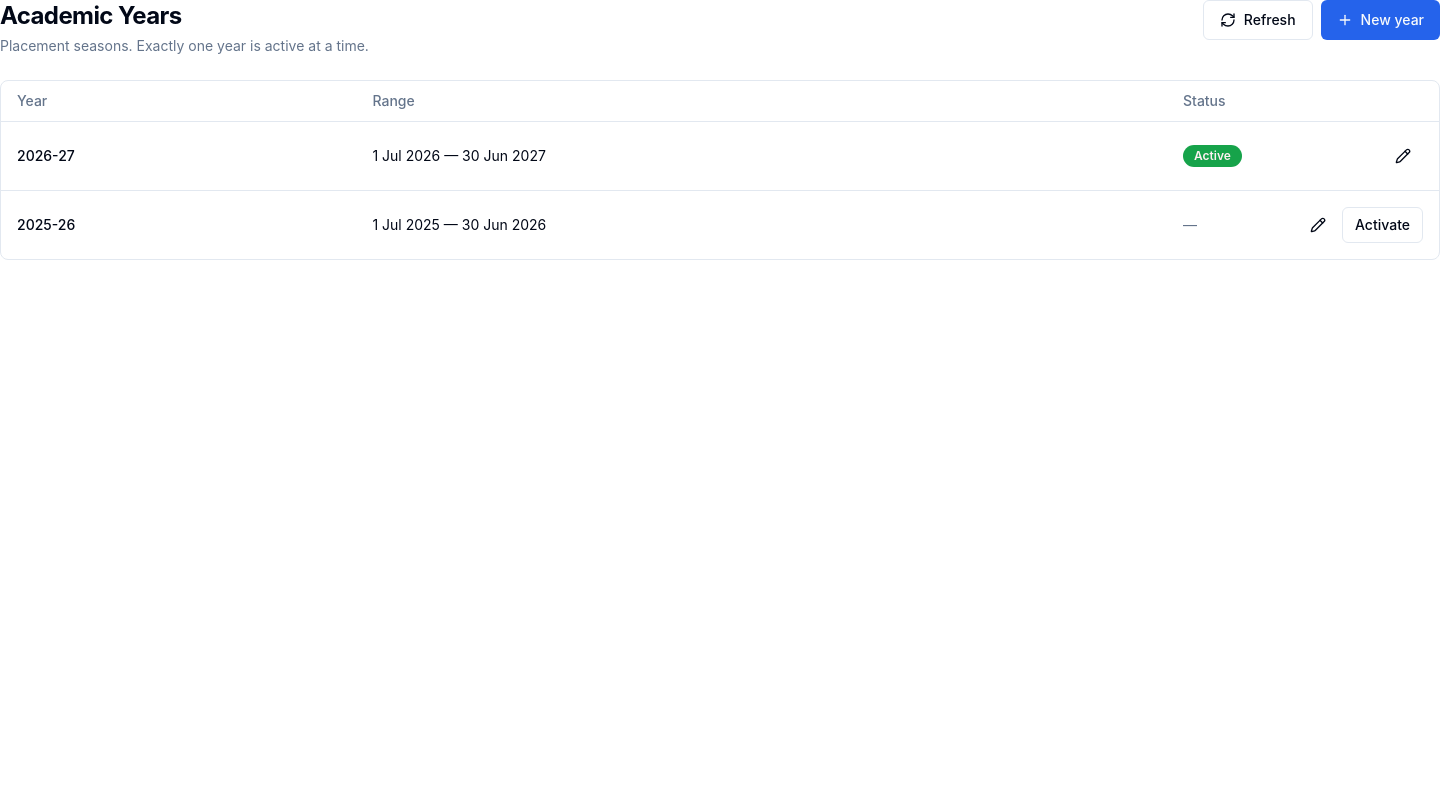
AcademicYearsPage › fixes the label when editing, since the backend updates dates only
Expected: the text "2026-27" is shown, x1=17 y1=146 x2=75 y2=164
Click the button named "Edit 2026-27". click: (1403,156)
box: x1=1383 y1=138 x2=1423 y2=174
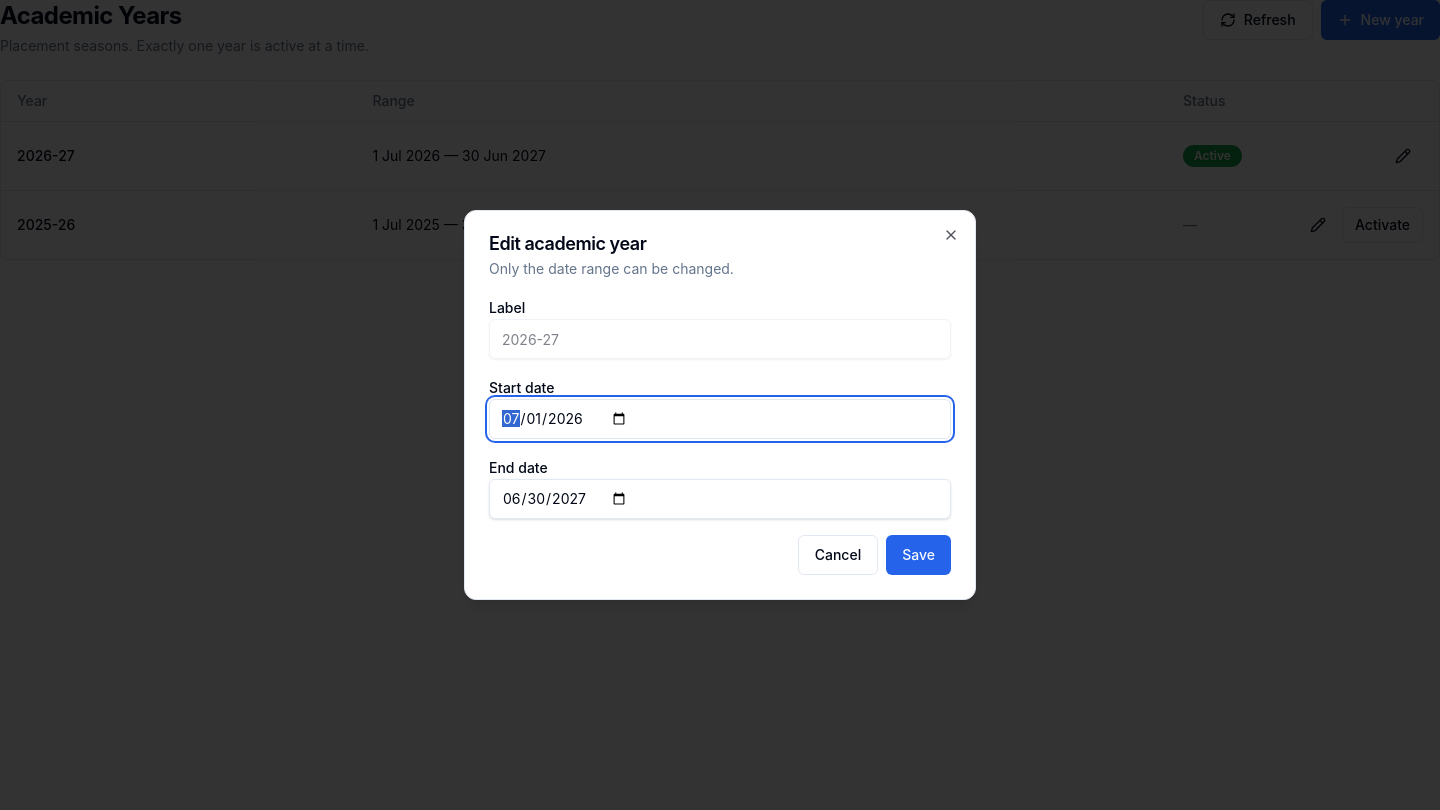
Expected: the field labelled "Label" is disabled, x1=489 y1=319 x2=951 y2=359
Expected: the date field labelled "Start date" is enabled, x1=489 y1=399 x2=951 y2=439
